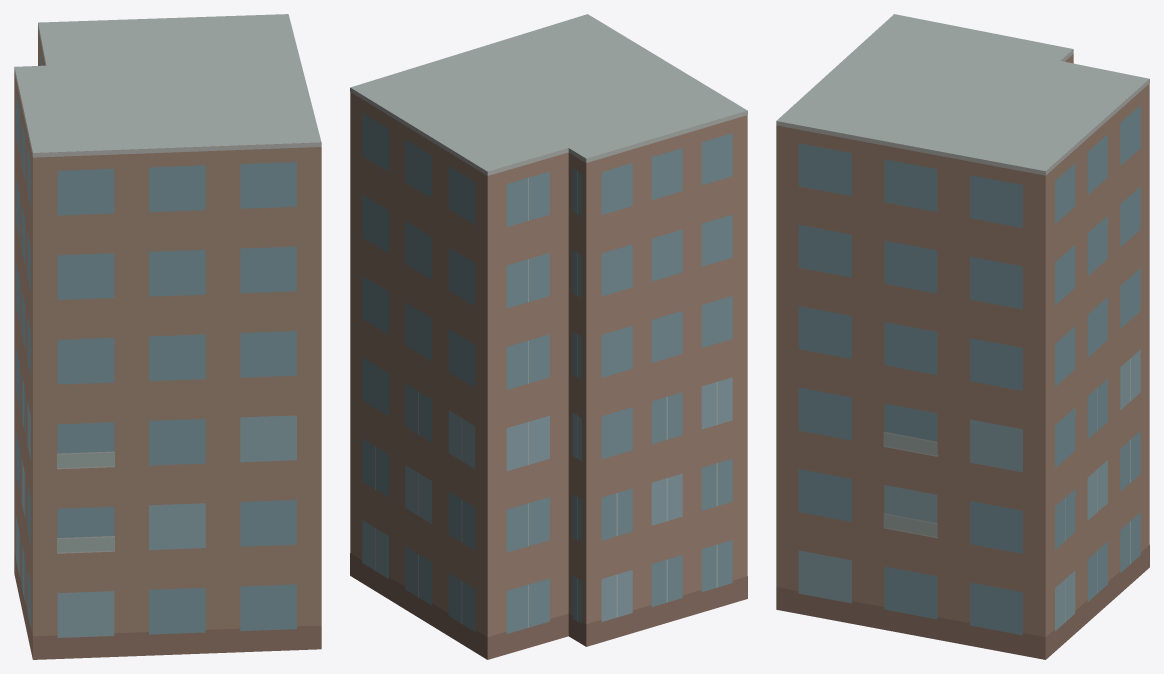
File: survey-upis-32693703.glb
The picture shows the model from 3 angles, left to right: view 1: azimuth 30°, elevation 25°; view 2: azimuth 150°, elevation 25°; view 3: azimuth 270°, elevation 25°; orthographic projection. The views are drawn at different scales.
Parts seen in each view (by area): view 1: survey-upis-32693703.tmp; view 2: survey-upis-32693703.tmp; view 3: survey-upis-32693703.tmp.
Part boxes in pixels (x1,y1,x2,y2): survey-upis-32693703.tmp: [14, 14, 321, 659]; survey-upis-32693703.tmp: [350, 14, 747, 659]; survey-upis-32693703.tmp: [776, 14, 1149, 659].
Bounding box in the file's own units: 18.71 × 27.1 × 18.78.
